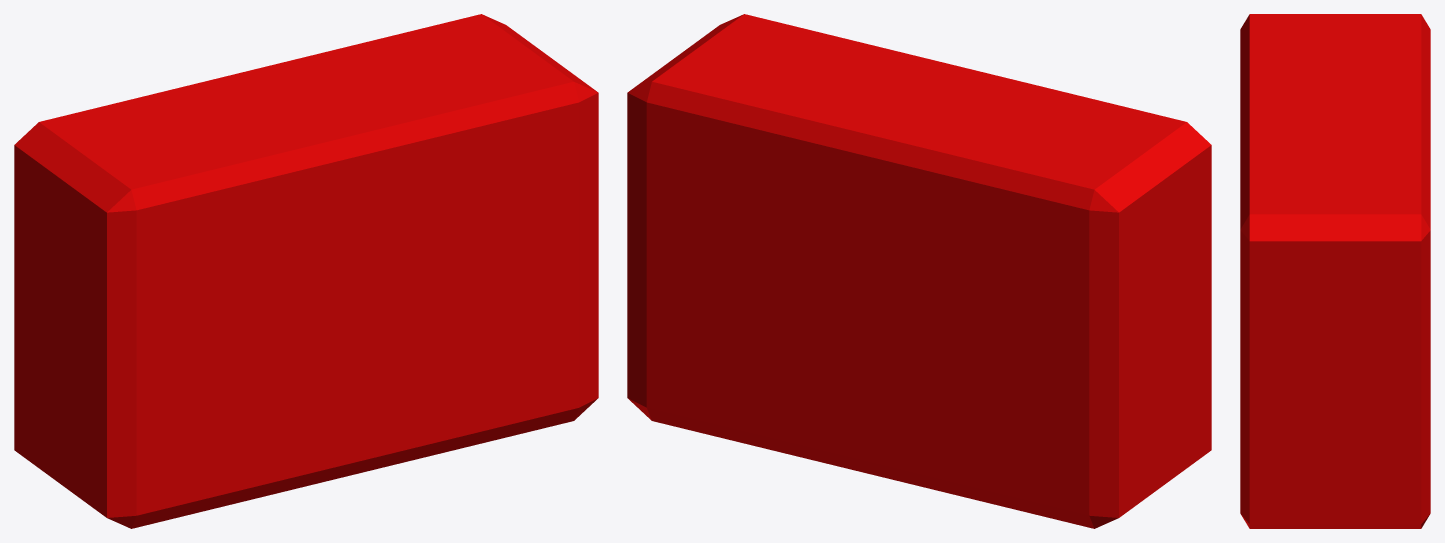
Rendered from tnk_wall.fbx.
3 views of the same model, side by side, from view 1: azimuth 30°, elevation 25°; view 2: azimuth 150°, elevation 25°; view 3: azimuth 270°, elevation 25° (orthographic). The views are drawn at different scales.
Visible parts, largest first — view 1: wall; view 2: wall; view 3: wall.
Part boxes in pixels (x1,y1,x2,y2): wall: (14, 14, 598, 528); wall: (627, 14, 1211, 528); wall: (1240, 14, 1430, 528).
Bounding box in the file's own units: 24.96 × 16.45 × 9.03.
